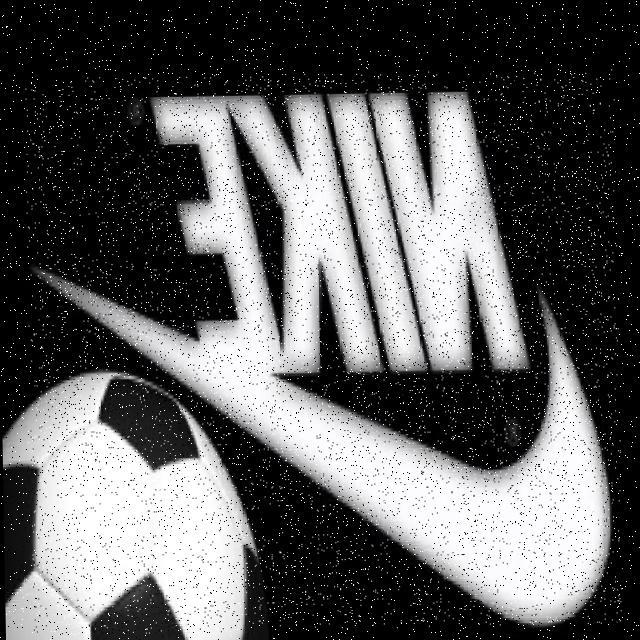Nike: (24, 68, 623, 635)
